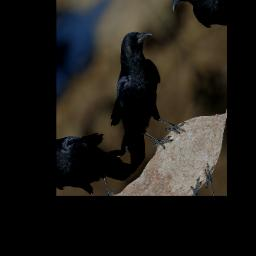Crow: (78, 17, 206, 180)
